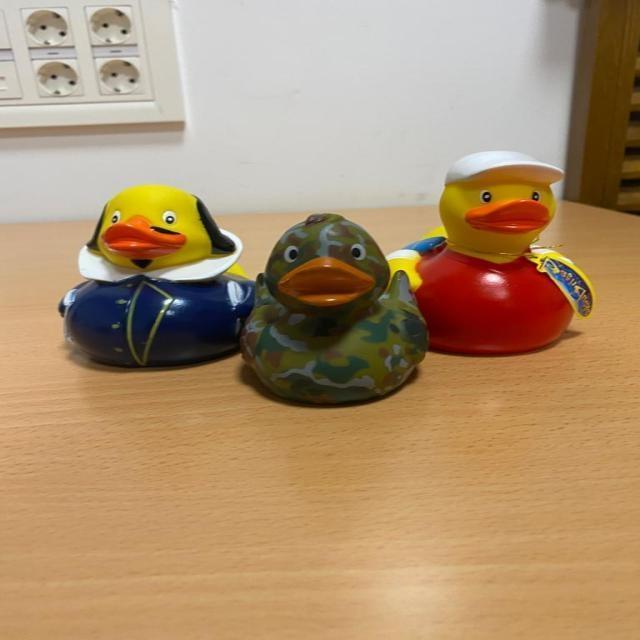rubber-duck: (414, 150, 591, 352), (240, 212, 425, 401), (61, 184, 253, 365)
